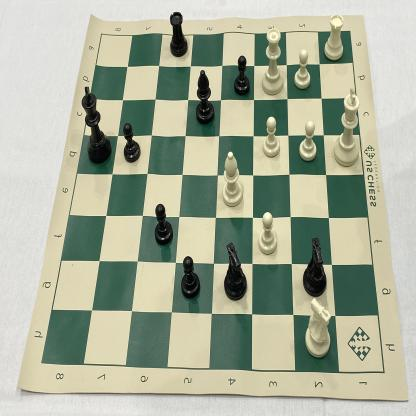black-bishop: (193, 65, 217, 127)
black-king: (79, 80, 113, 165)
black-knight: (301, 233, 332, 298), (222, 240, 249, 304)
black-pawn: (179, 251, 204, 302), (152, 200, 176, 249), (121, 118, 143, 166), (232, 49, 252, 98)
black-rook: (166, 6, 192, 61)
white-bishop: (221, 149, 245, 211)
white-king: (331, 85, 361, 169)
white-knight: (302, 294, 335, 362)
white-pawn: (260, 112, 284, 162), (257, 208, 280, 258), (298, 116, 318, 165), (293, 46, 313, 93)
white-queen: (260, 25, 285, 98)
white-rook: (321, 10, 348, 66)
